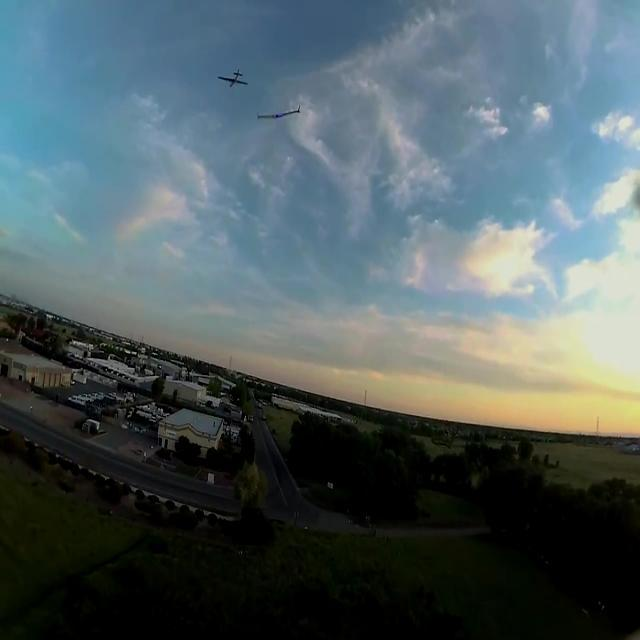iha: (254, 31, 310, 65), (216, 0, 249, 21)
